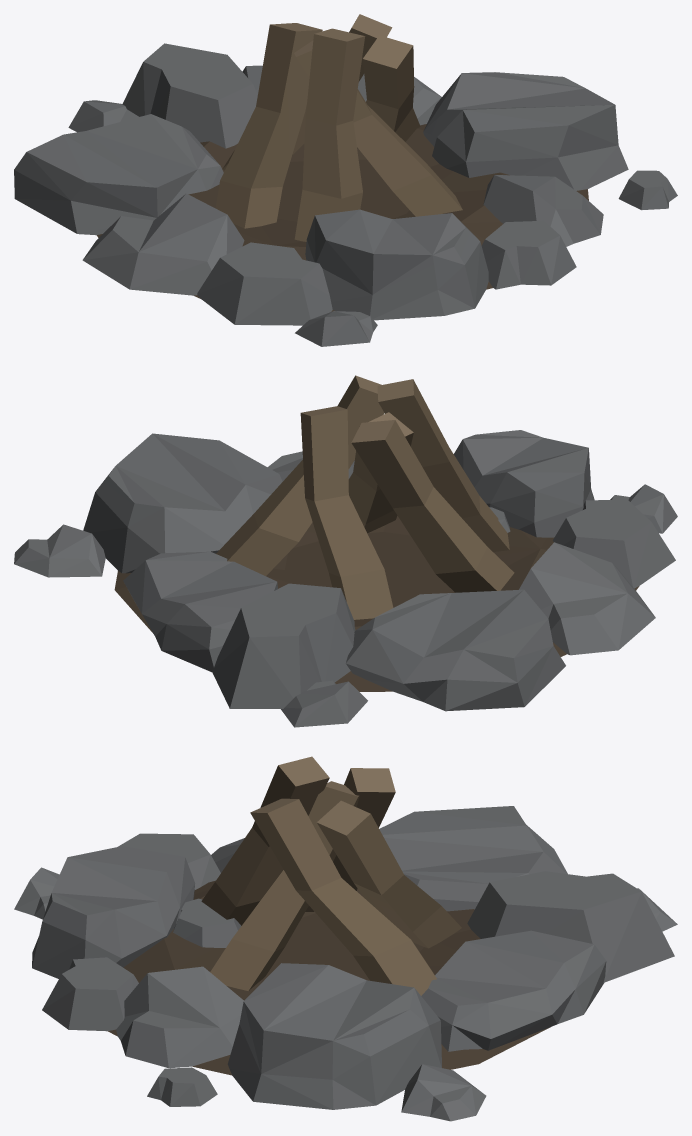
Rendered from nat_Prop_CampFire_01.glb.
The picture shows the model from 3 angles, top to bottom: view 1: azimuth 30°, elevation 25°; view 2: azimuth 150°, elevation 25°; view 3: azimuth 270°, elevation 25°; orthographic projection. The views are drawn at different scales.
Parts seen in each view (by area): view 1: SM_Prop_CampFire_01; view 2: SM_Prop_CampFire_01; view 3: SM_Prop_CampFire_01.
Part boxes in pixels (box(x1,y1,x2,y2)): SM_Prop_CampFire_01: box(14, 14, 677, 346); SM_Prop_CampFire_01: box(14, 375, 677, 727); SM_Prop_CampFire_01: box(14, 756, 677, 1121).
Size of the model in its own units: 1.53 by 0.5995 by 1.53.
Materials: 1 (1 with a texture image).
